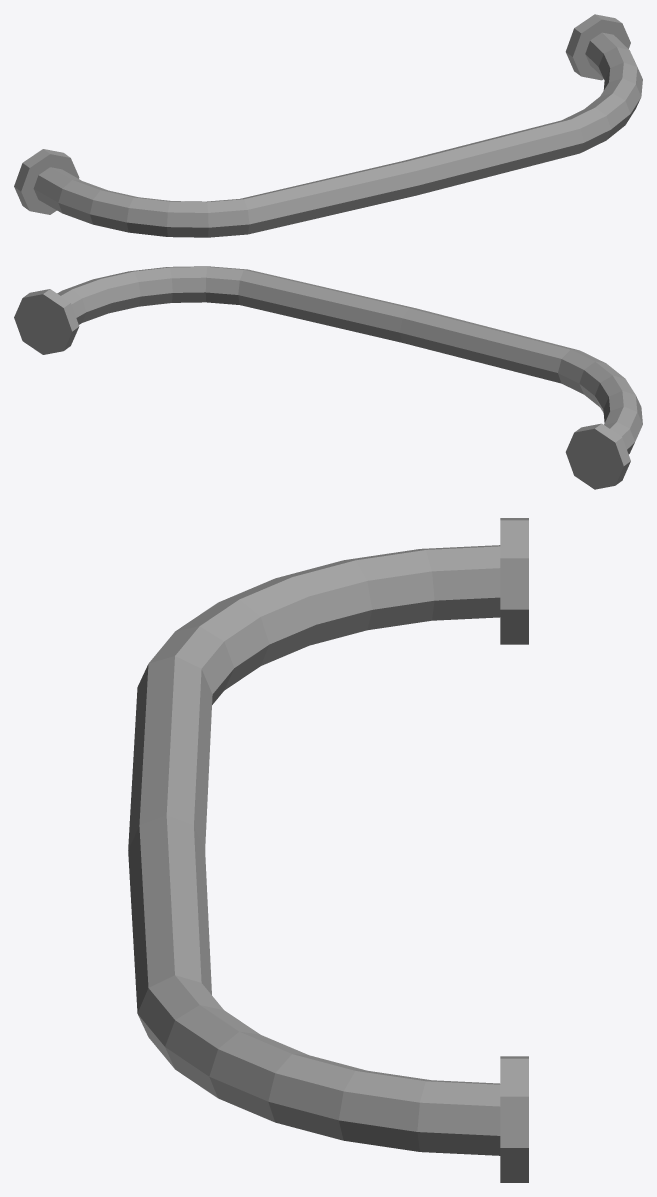
File: TowelRail_01.fbx
3 views of the same model, one above another, from view 1: azimuth 30°, elevation 25°; view 2: azimuth 150°, elevation 25°; view 3: azimuth 270°, elevation 25° (orthographic). The views are drawn at different scales.
Visible parts, largest first — view 1: TowelRail_01; view 2: TowelRail_01; view 3: TowelRail_01.
Boxes of the visible parts, bbox=[...] form: TowelRail_01: bbox=[14, 14, 642, 237]; TowelRail_01: bbox=[14, 266, 642, 489]; TowelRail_01: bbox=[128, 518, 528, 1182].
Bounding box in the file's own units: 63.27 × 6.04 × 18.
